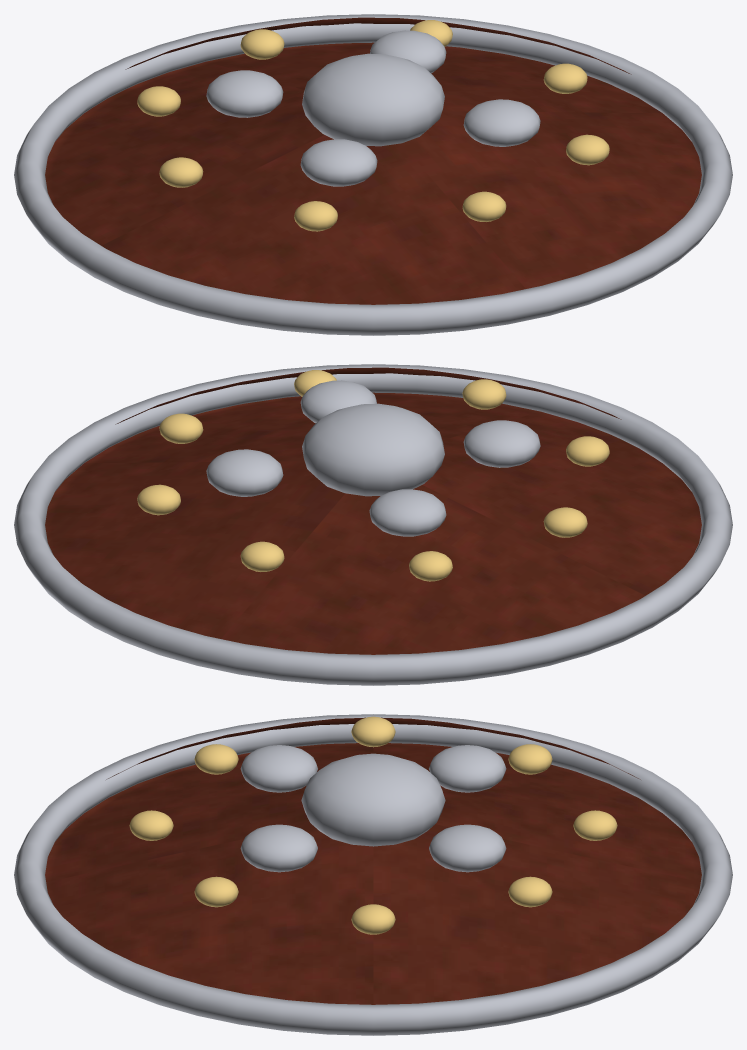
File: W_shield.glb
3 views of the same model, one above another, from view 1: azimuth 30°, elevation 25°; view 2: azimuth 150°, elevation 25°; view 3: azimuth 270°, elevation 25° (orthographic).
Visible parts, largest first — view 1: W_shield; view 2: W_shield; view 3: W_shield.
Boxes of the visible parts, left/top/right/bottom form: W_shield: left=14, top=14, right=732, bottom=335; W_shield: left=14, top=364, right=732, bottom=685; W_shield: left=14, top=714, right=732, bottom=1035.
Size of the model in its own units: 0.648 by 0.1607 by 0.648.
Materials: 4 (3 with a texture image).
